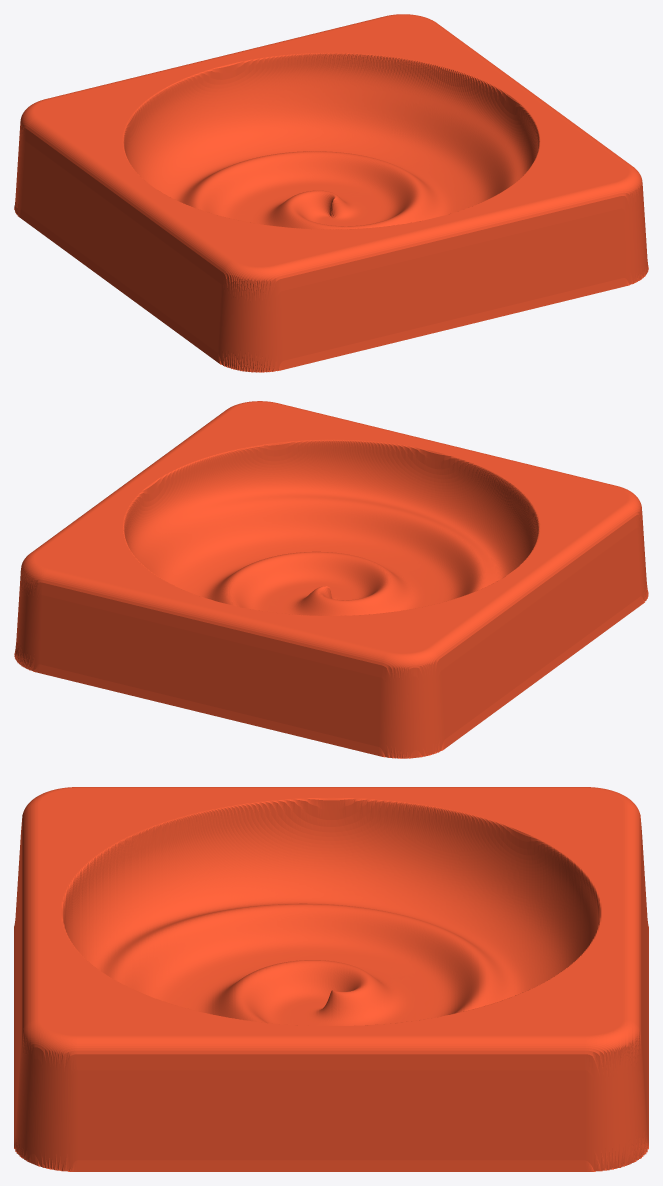
File: mold.glb
3 views of the same model, one above another, from view 1: azimuth 30°, elevation 25°; view 2: azimuth 150°, elevation 25°; view 3: azimuth 270°, elevation 25° (orthographic). The views are drawn at different scales.
Visible parts, largest first — view 1: geometry_0; view 2: geometry_0; view 3: geometry_0.
Part boxes in pixels (x1,y1,x2,y2): geometry_0: (14,14,648,372); geometry_0: (14,401,648,758); geometry_0: (14,787,648,1171).
Size of the model in its own units: 0.0904 by 0.0197 by 0.0904.
